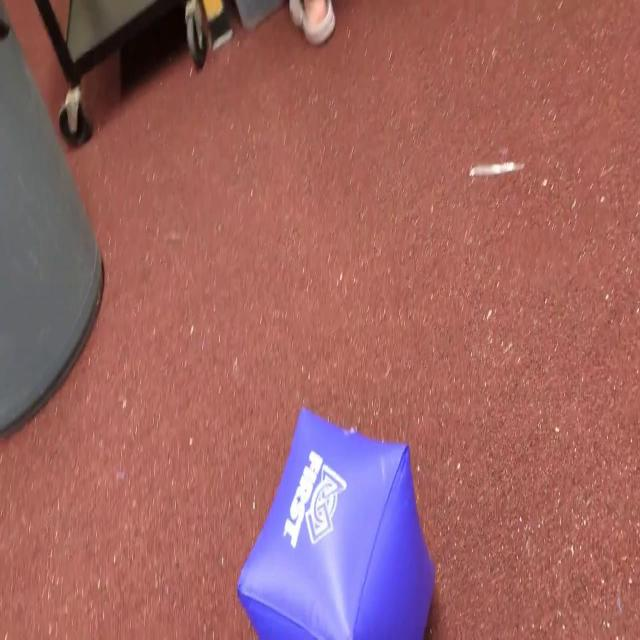frc_cube: (235, 407, 436, 640)
